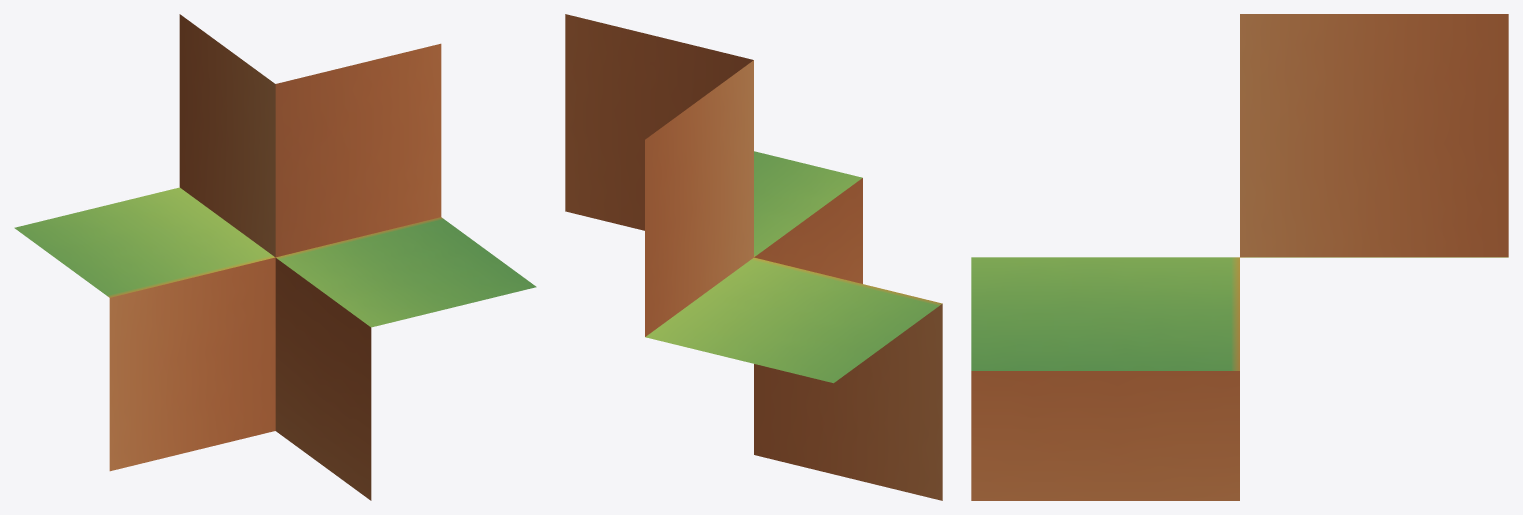
3 renders of one model, left to right at view 1: azimuth 30°, elevation 25°; view 2: azimuth 150°, elevation 25°; view 3: azimuth 270°, elevation 25°, orthographic. The views are drawn at different scales.
Parts seen in each view (by area): view 1: 00011011; view 2: 00011011; view 3: 00011011.
Boxes of the visible parts, x1,y1,x2,y2 form: 00011011: [14, 14, 536, 500]; 00011011: [565, 14, 942, 500]; 00011011: [971, 14, 1508, 500].
Bounding box in the file's own units: 1 × 1 × 1.
Materials: 1 (1 with a texture image).
